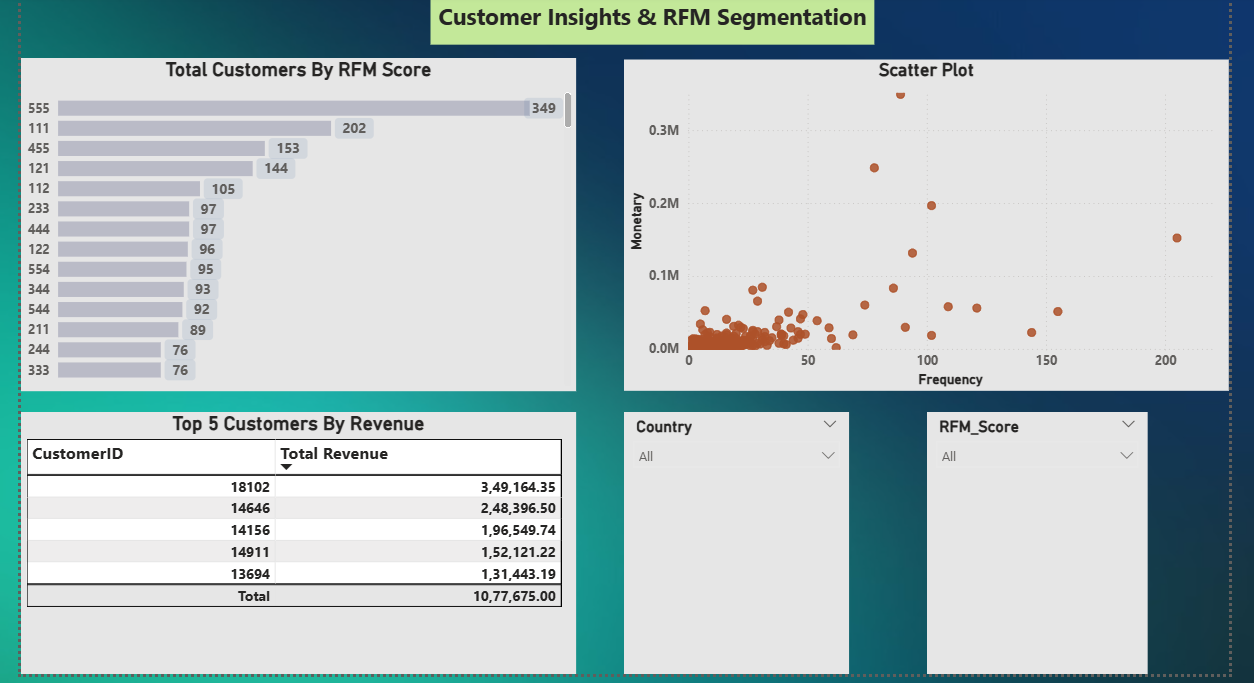

What the dashboard file says about the page in this screenshot:
{"tool":"powerbi","page":{"name":"Page 3","canvas":[1280,720],"ordinal":2},"visuals":[{"type":"textbox","box":[434.2,0,470.8,52.5],"z":0},{"type":"clusteredBarChart","title":"Total Customers By RFM Score","fields":{"Y":["CountNonNull(retail rfm_customers.CustomerID)"],"Category":["retail rfm_customers.RFM_Score"]},"box":[0,66.8,588.5,353.1],"z":1000},{"type":"scatterChart","title":"Scatter Plot","fields":{"X":["retail rfm_customers.Frequency"],"Y":["retail rfm_customers.Monetary"]},"box":[639.4,68.4,641,351.5],"z":2000},{"type":"tableEx","title":"Top 5 Customers By Revenue","fields":{"Values":["retail rfm_customers.CustomerID","retail retail_sales.Total Revenue"]},"box":[0,442.2,588.5,278.4],"z":3000},{"type":"slicer","fields":{"Values":["retail retail_sales.Country"]},"box":[639.4,442.2,238.6,278.4],"z":4000},{"type":"slicer","fields":{"Values":["retail rfm_customers.RFM_Score"]},"box":[960.7,442.2,233.8,278.4],"z":5000}]}

Visuals, with their boxes in screenshot pixels (x1, y1, x2, y2):
textbox: rect(432, 0, 872, 43)
"Total Customers By RFM Score" clusteredBarChart: rect(26, 56, 576, 386)
"Scatter Plot" scatterChart: rect(624, 57, 1223, 386)
"Top 5 Customers By Revenue" tableEx: rect(26, 407, 576, 667)
slicer - retail retail_sales.Country: rect(624, 407, 847, 667)
slicer - retail rfm_customers.RFM_Score: rect(924, 407, 1143, 667)
